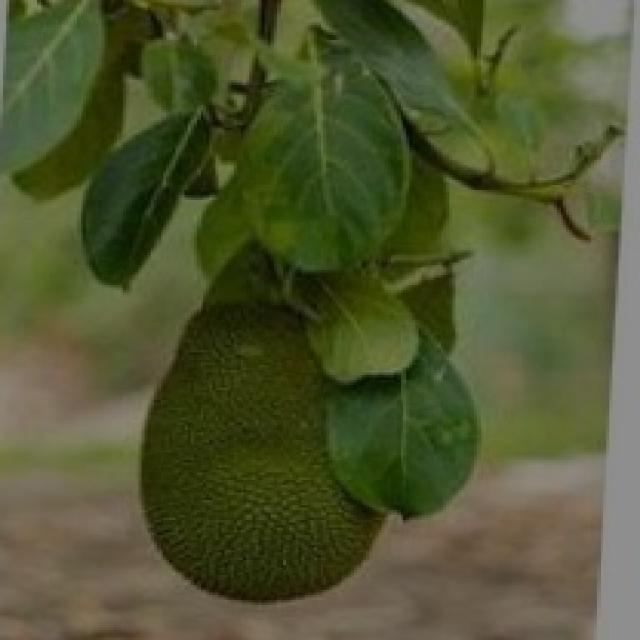Fruit: (98, 265, 424, 635)
